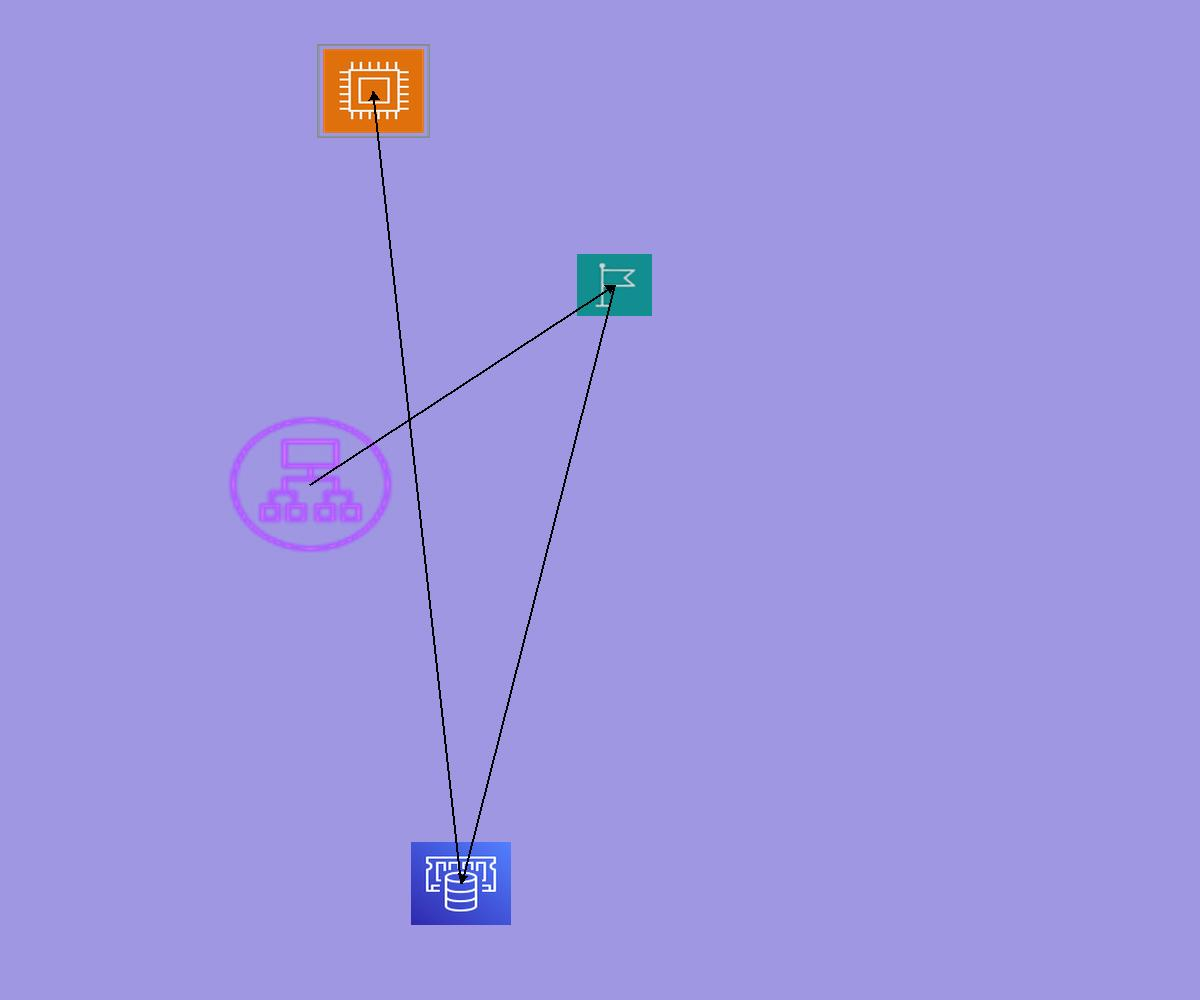AWS-Category_Compute: (317, 44, 430, 138)
AWS-ElastiCache: (411, 842, 511, 925)
AWS-Region: (577, 254, 652, 316)
AWS-Res_Elastic-Load-Balancing_Application-Load-Balancer: (222, 411, 399, 558)
